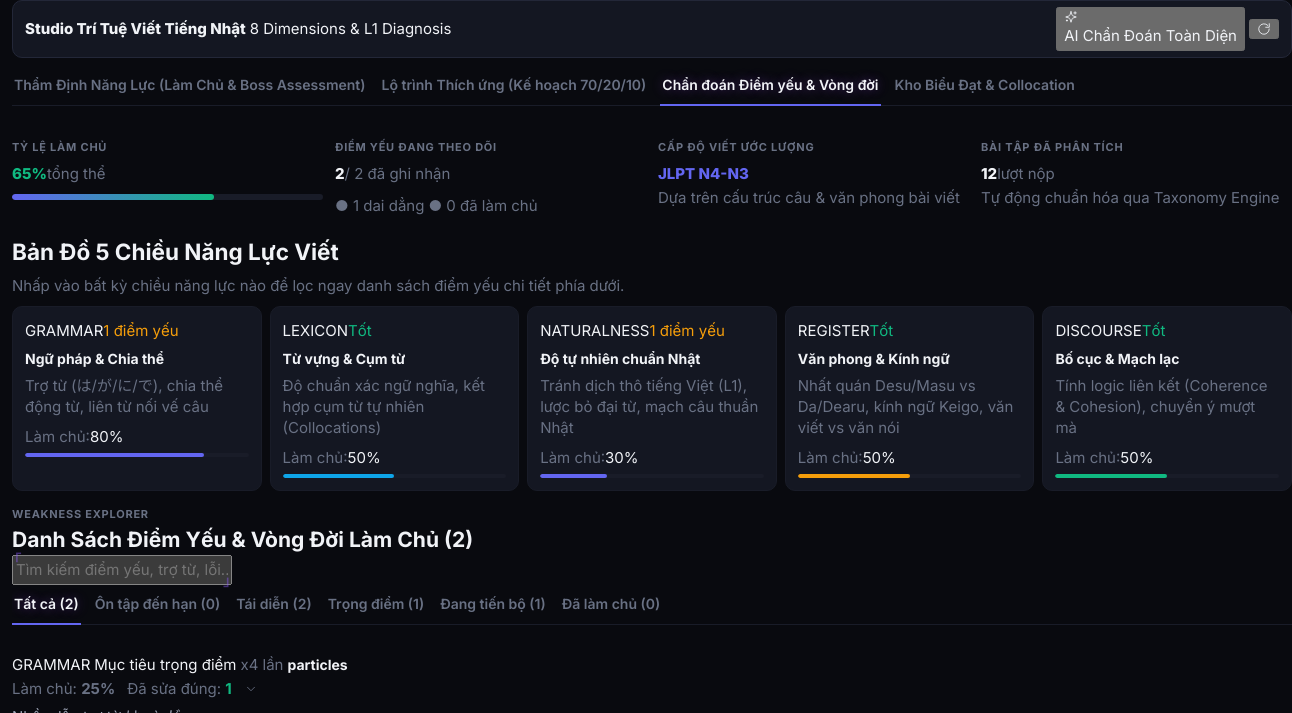
Test case: WritingIntelligencePage › filters weakness list by category when clicking a dimension card
Check: the text "particles" is shown, box [288, 654, 348, 676]
# Click on grammar dimension card to filter
Click the text "Ngữ pháp & Chia thể": point(95, 359) [25, 350, 164, 367]
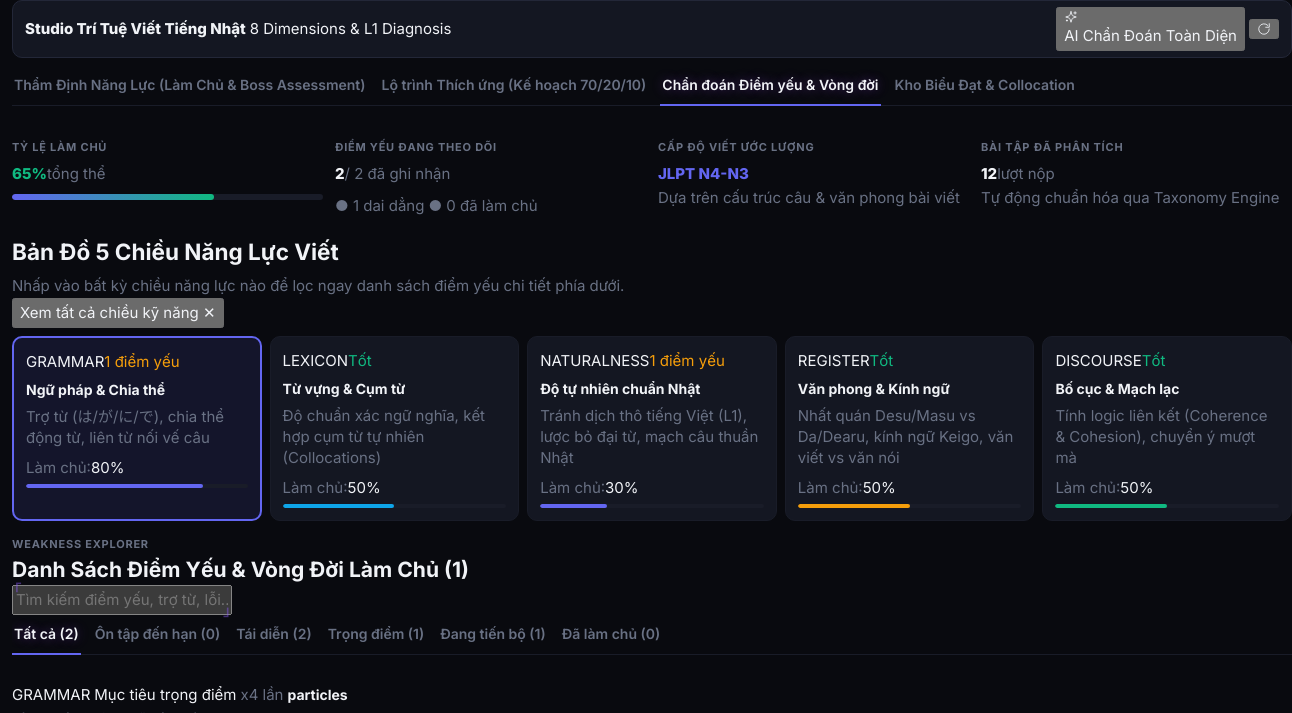
Check: the text "particles" is shown, box [288, 684, 348, 706]
# Clear filter
Click the button "Xem tất cả chiều kỹ năng ✕": point(118, 313) [12, 298, 224, 328]
(page scrolled)
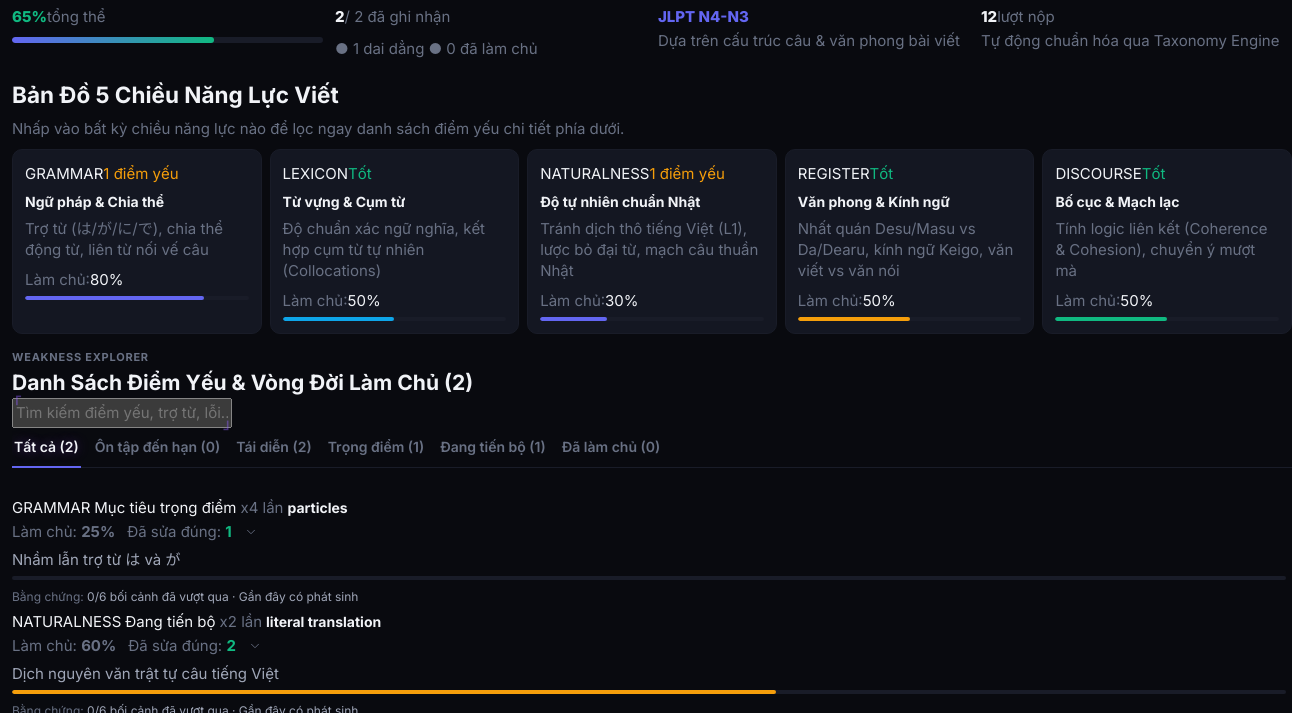
Check: the text "literal translation" is shown, box [266, 611, 381, 633]
